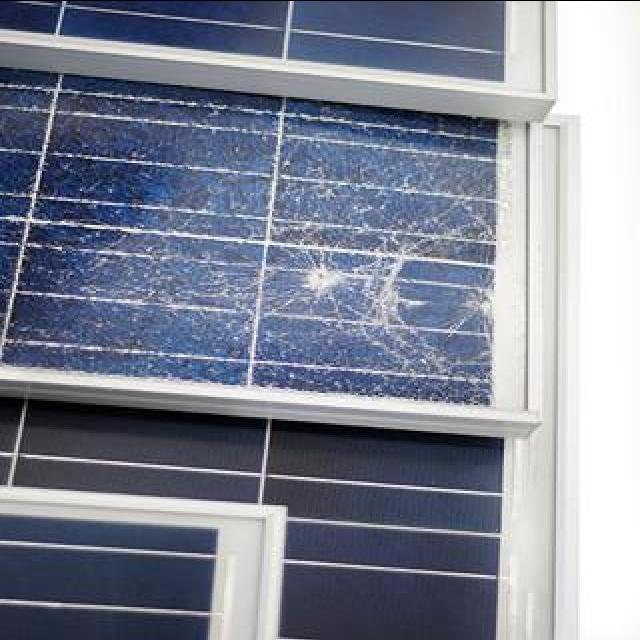cracked: (0, 72, 542, 434)
